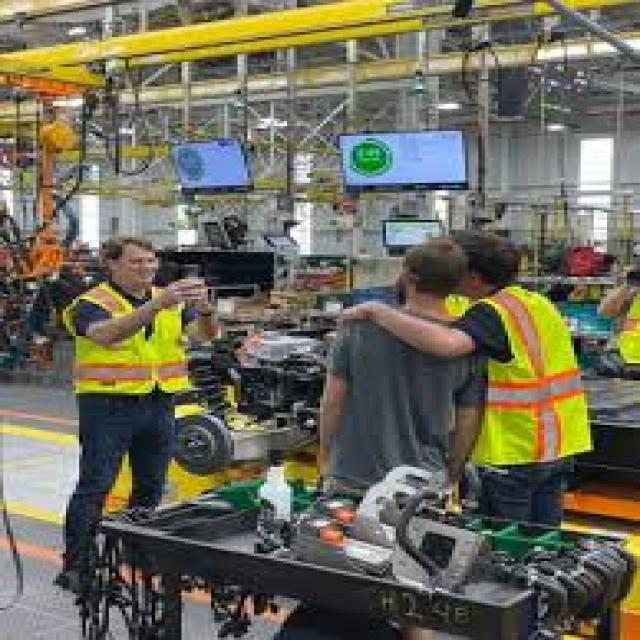Reflective-Jacket: (449, 284, 607, 472), (53, 276, 214, 418), (610, 276, 640, 381)
